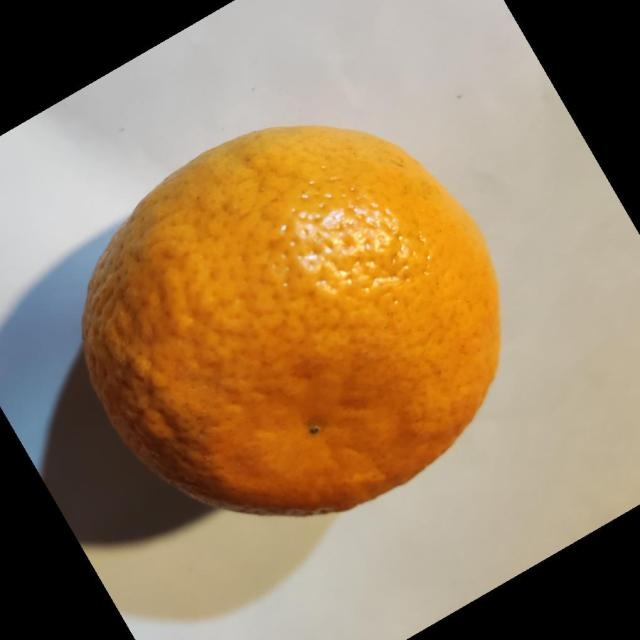agrume: (80, 123, 502, 517)
